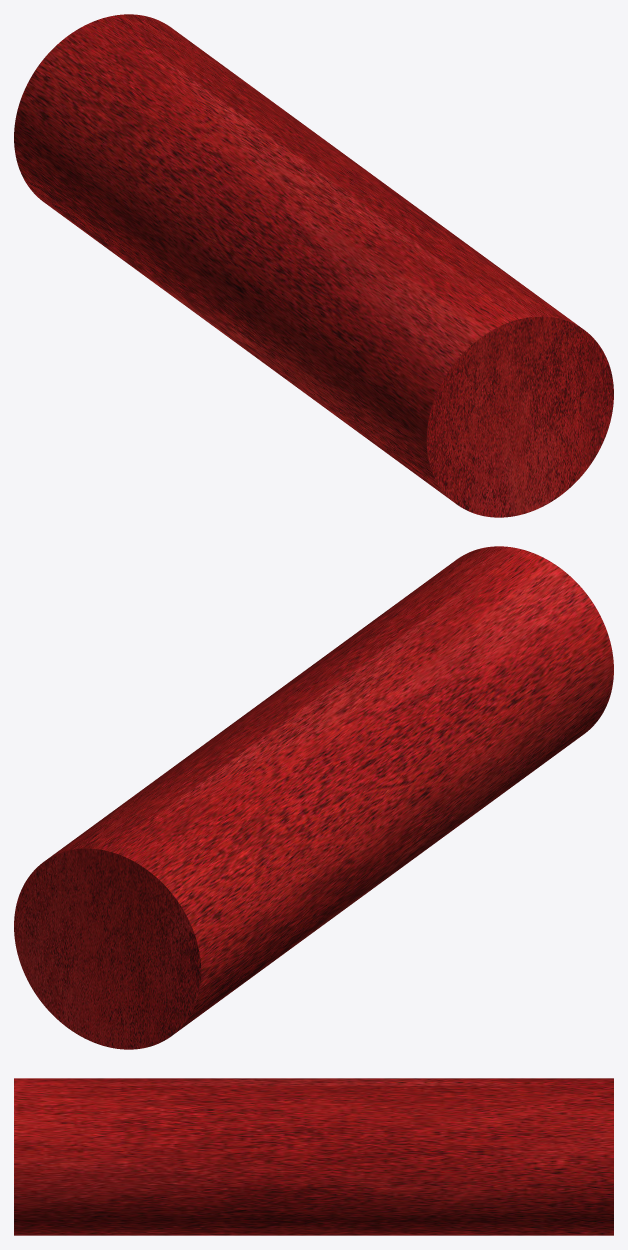
Rendered from Red.fbx.
3 renders of one model, top to bottom at view 1: azimuth 30°, elevation 25°; view 2: azimuth 150°, elevation 25°; view 3: azimuth 270°, elevation 25°, orthographic. The views are drawn at different scales.
Parts seen in each view (by area): view 1: Cylinder; view 2: Cylinder; view 3: Cylinder.
Part boxes in pixels (x1,y1,x2,y2): Cylinder: [14, 14, 613, 517]; Cylinder: [14, 546, 613, 1049]; Cylinder: [14, 1078, 613, 1235].
Bounding box in the file's own units: 200 × 200 × 764.
Materials: 1 (1 with a texture image).
